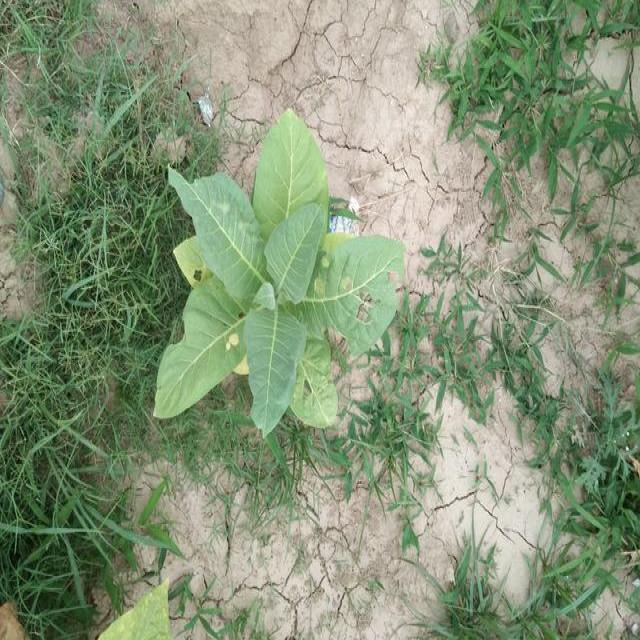crop: (152, 104, 410, 439)
